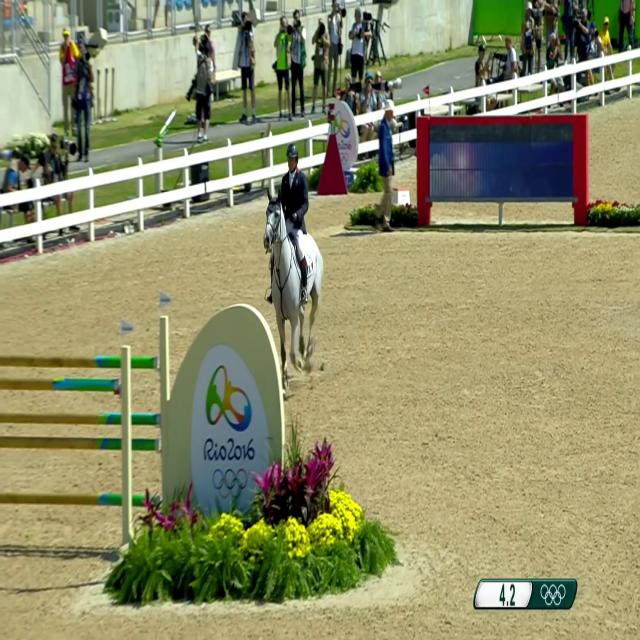Horse Running: (260, 184, 334, 367)
